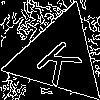K: (34, 32, 91, 87)
